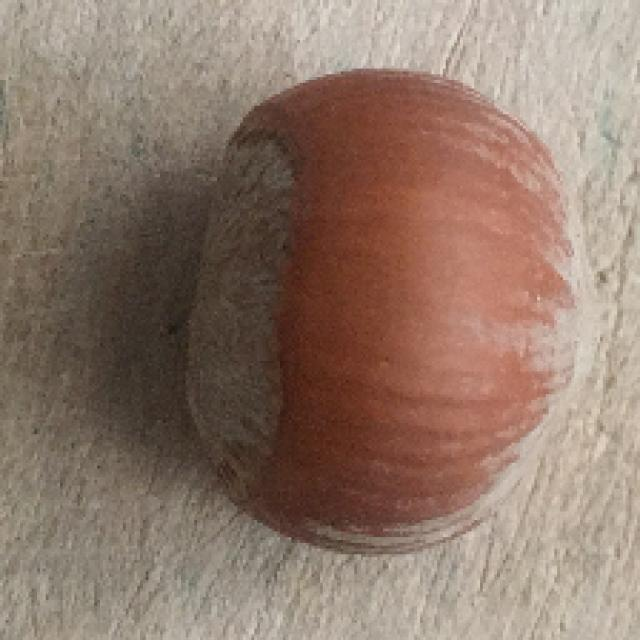qualityHazelnut: (198, 73, 591, 559)
